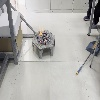fire: (39, 25, 43, 36), (44, 40, 46, 43)
